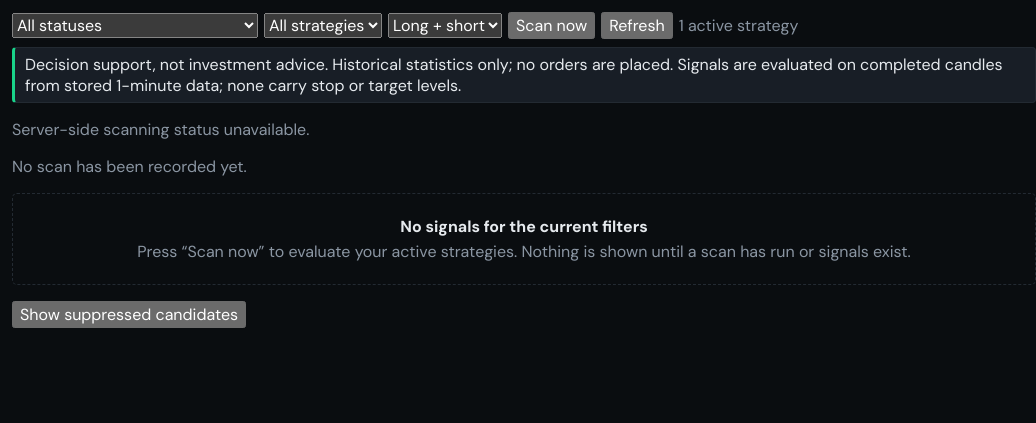
scan result summary › an empty scan states strategies, pairs scanned and suppression counts by reason, never a bare "No signals"
Click the button "Scan now". click: (552, 26)
box: [508,12,595,39]
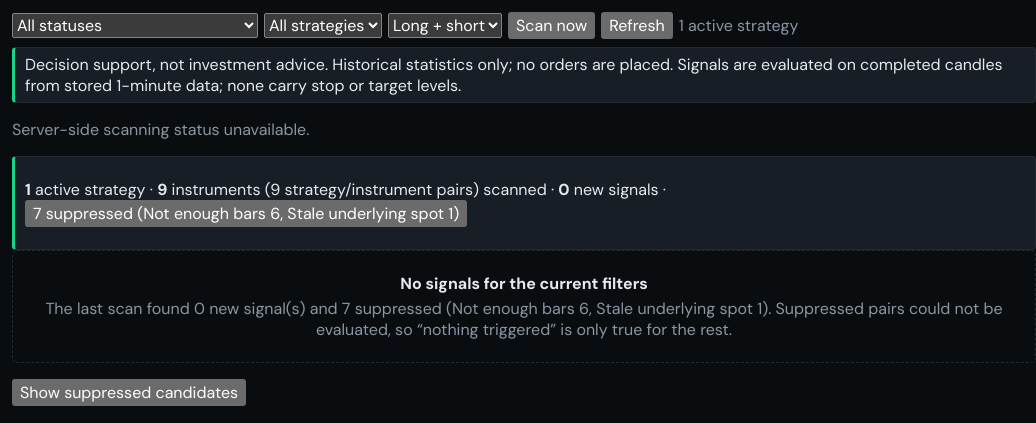
Check: the button "7 suppressed (Not enough bars 6, Stale underlying spot 1)" is shown, box [25,200,467,227]
Check: the element with class "sl-scan-summary" shows "1 active strategy · 9 instruments (9 strategy/instrument pairs) scanned · 0 new signals · 7 suppressed", box [25,179,666,227]
Check: the text "The last scan found 0 new signal(s) and 7 suppressed" is shown, box [45,298,1003,340]
